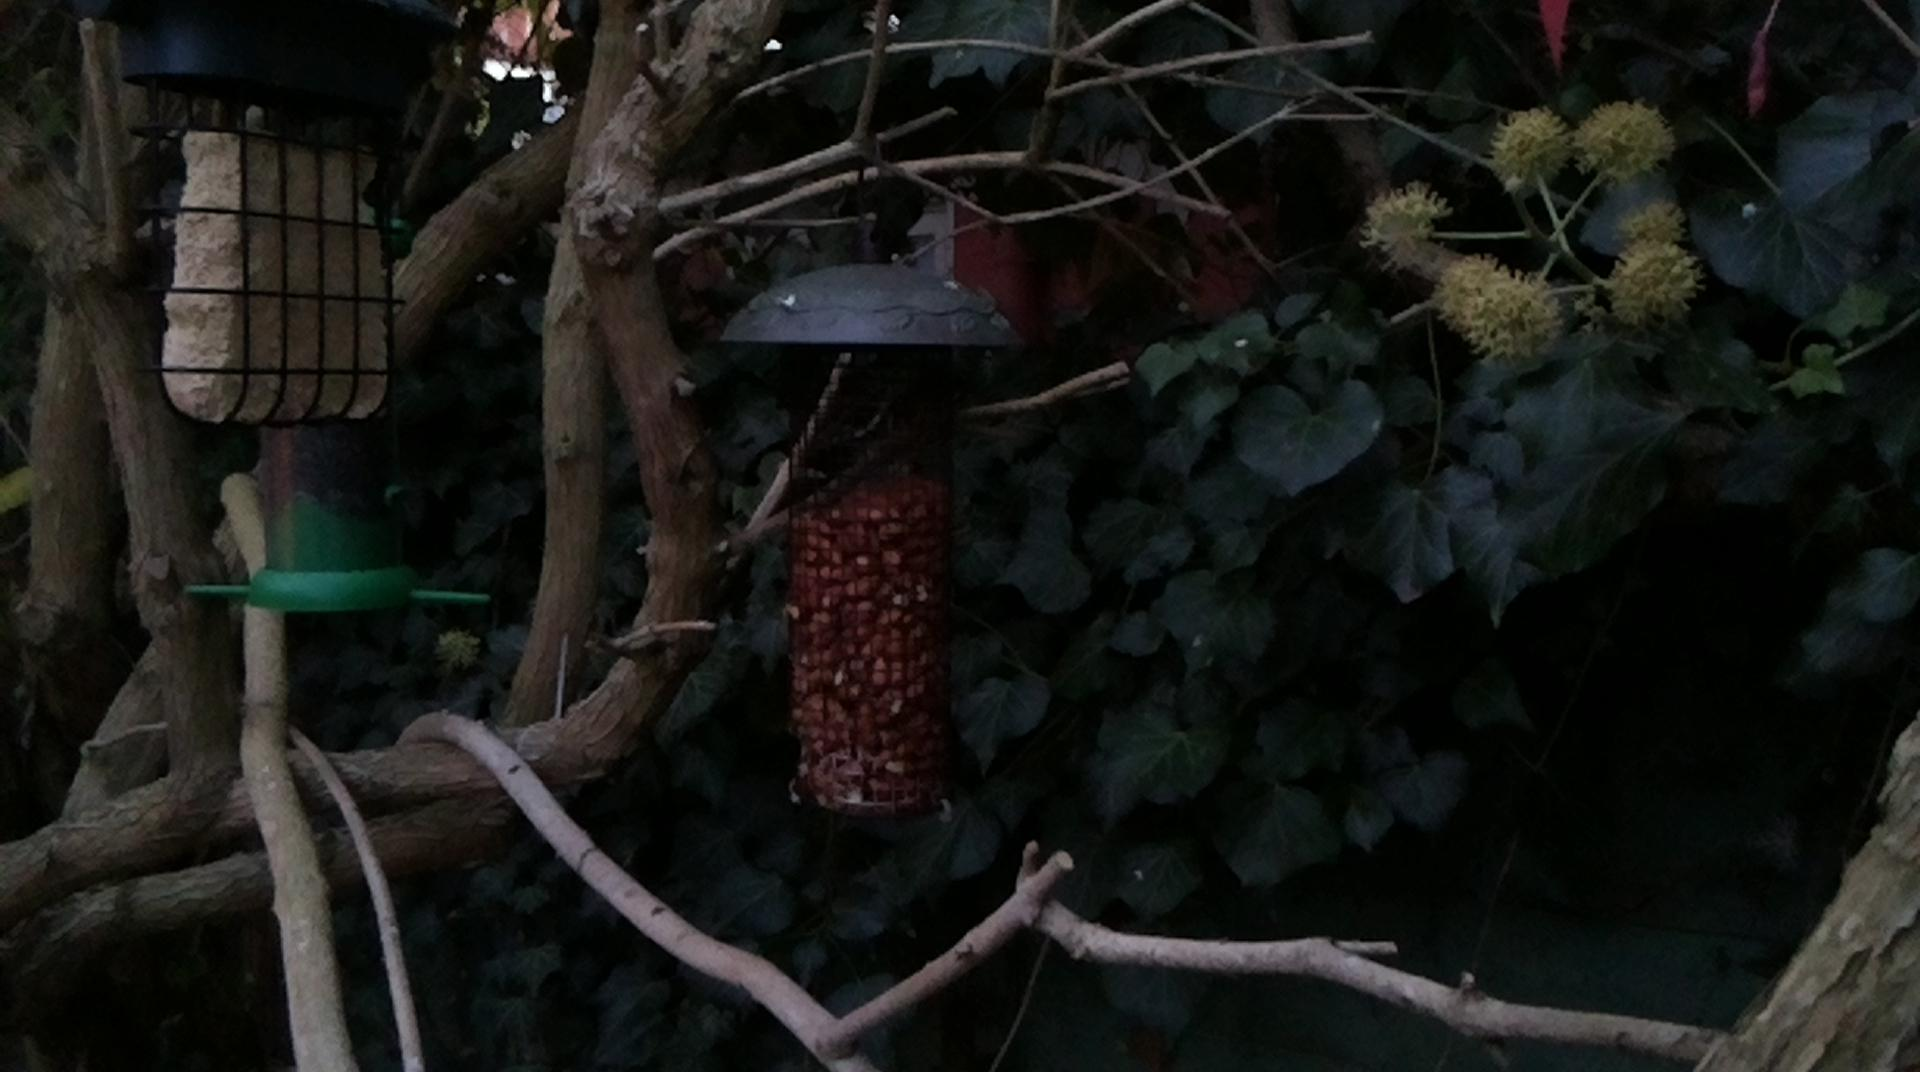unclassified: (94, 1, 500, 145)
